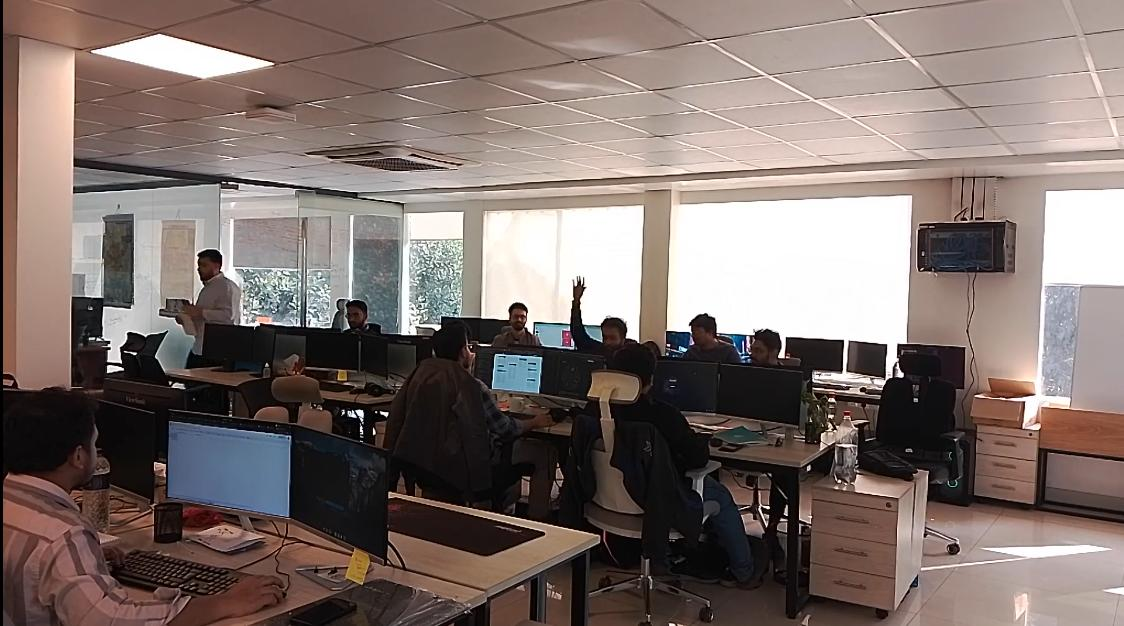hand: (560, 268, 607, 352)
